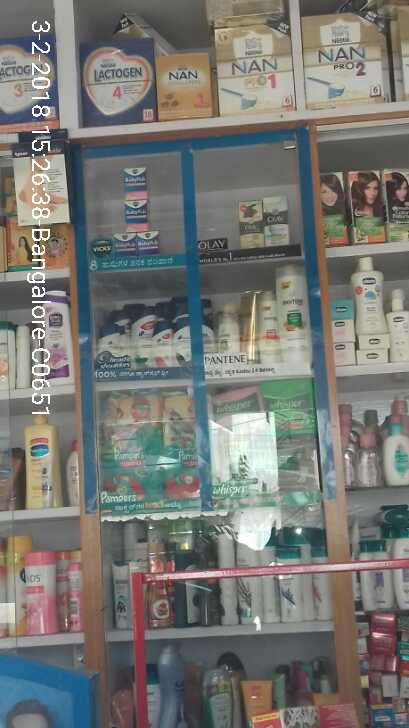vicks: (113, 160, 160, 257)
